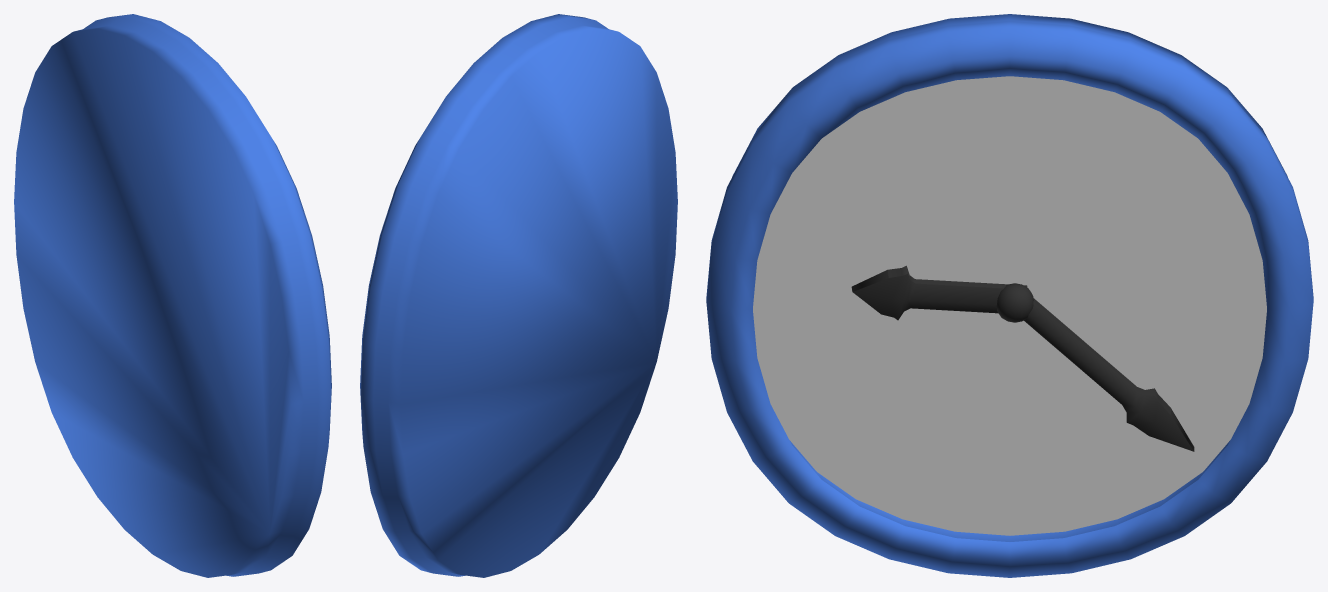
The model's file is clock.fbx.
3 renders of one model, left to right at view 1: azimuth 30°, elevation 25°; view 2: azimuth 150°, elevation 25°; view 3: azimuth 270°, elevation 25°, orthographic. The views are drawn at different scales.
Visible parts, largest first — view 1: Reloj; view 2: Reloj; view 3: Reloj.
Part boxes in pixels (bbox=[...]): Reloj: bbox=[14, 14, 331, 577]; Reloj: bbox=[360, 14, 677, 577]; Reloj: bbox=[706, 14, 1313, 577].
Size of the model in its own units: 0.0808 by 0.7465 by 0.7463.
